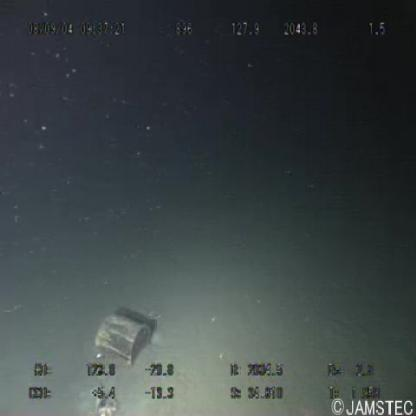Rác: (96, 306, 155, 362)
